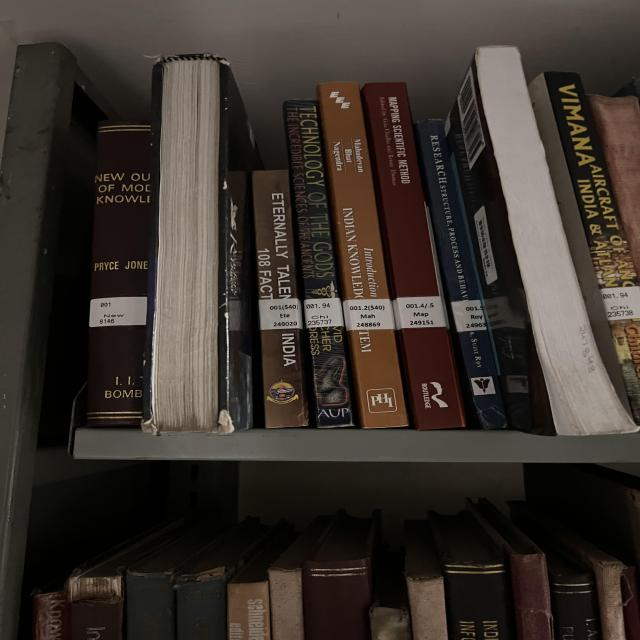Book: (142, 55, 260, 434), (362, 82, 465, 430), (318, 82, 408, 429), (415, 119, 507, 430), (283, 100, 355, 428), (87, 121, 152, 426), (252, 170, 308, 428)
Label: (90, 296, 147, 328), (393, 296, 447, 329), (343, 299, 395, 331), (600, 286, 640, 321), (258, 299, 303, 330), (303, 298, 343, 329), (452, 300, 487, 332)
